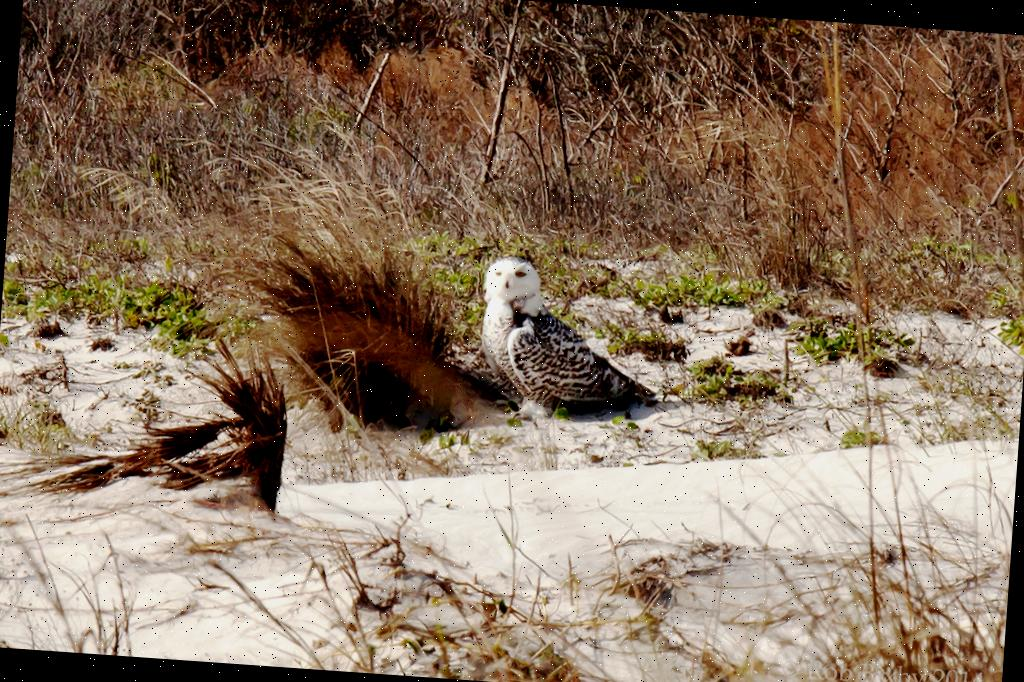Owl: (475, 254, 669, 432)
